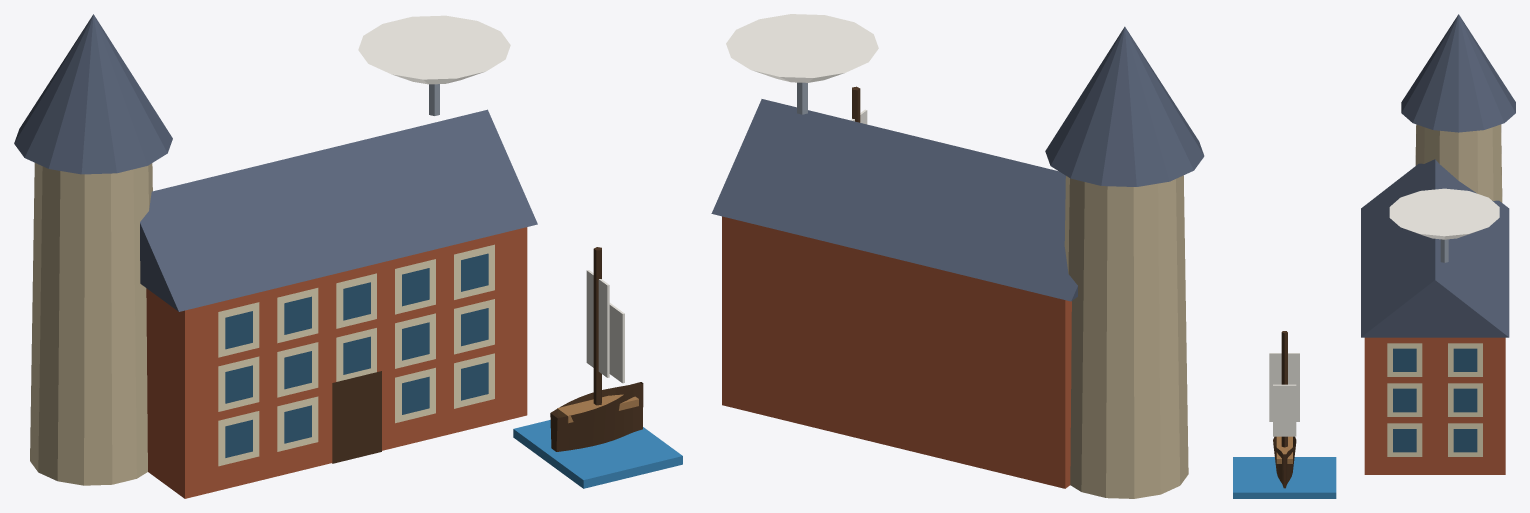
File: building_navigation_school.fbx
3 renders of one model, left to right at view 1: azimuth 30°, elevation 25°; view 2: azimuth 150°, elevation 25°; view 3: azimuth 270°, elevation 25°, orthographic. The views are drawn at different scales.
Parts seen in each view (by area): view 1: building_navigation_school; view 2: building_navigation_school; view 3: building_navigation_school.
Boxes of the visible parts, <box> form: building_navigation_school: <box>14,14,682,498</box>; building_navigation_school: <box>711,14,1204,498</box>; building_navigation_school: <box>1233,14,1515,498</box>.
Size of the model in its own units: 91.5 by 77 by 60.19.
